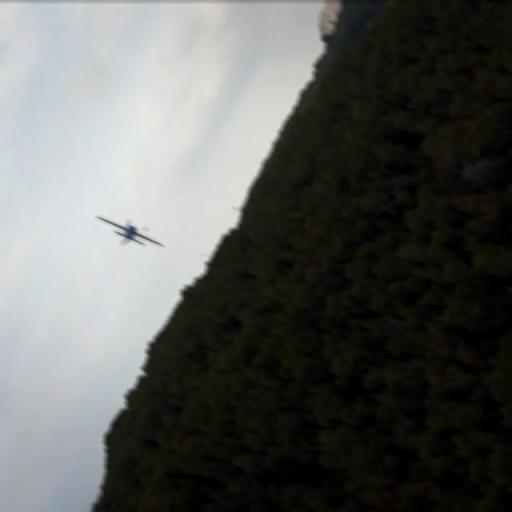uav: (92, 214, 166, 246)
